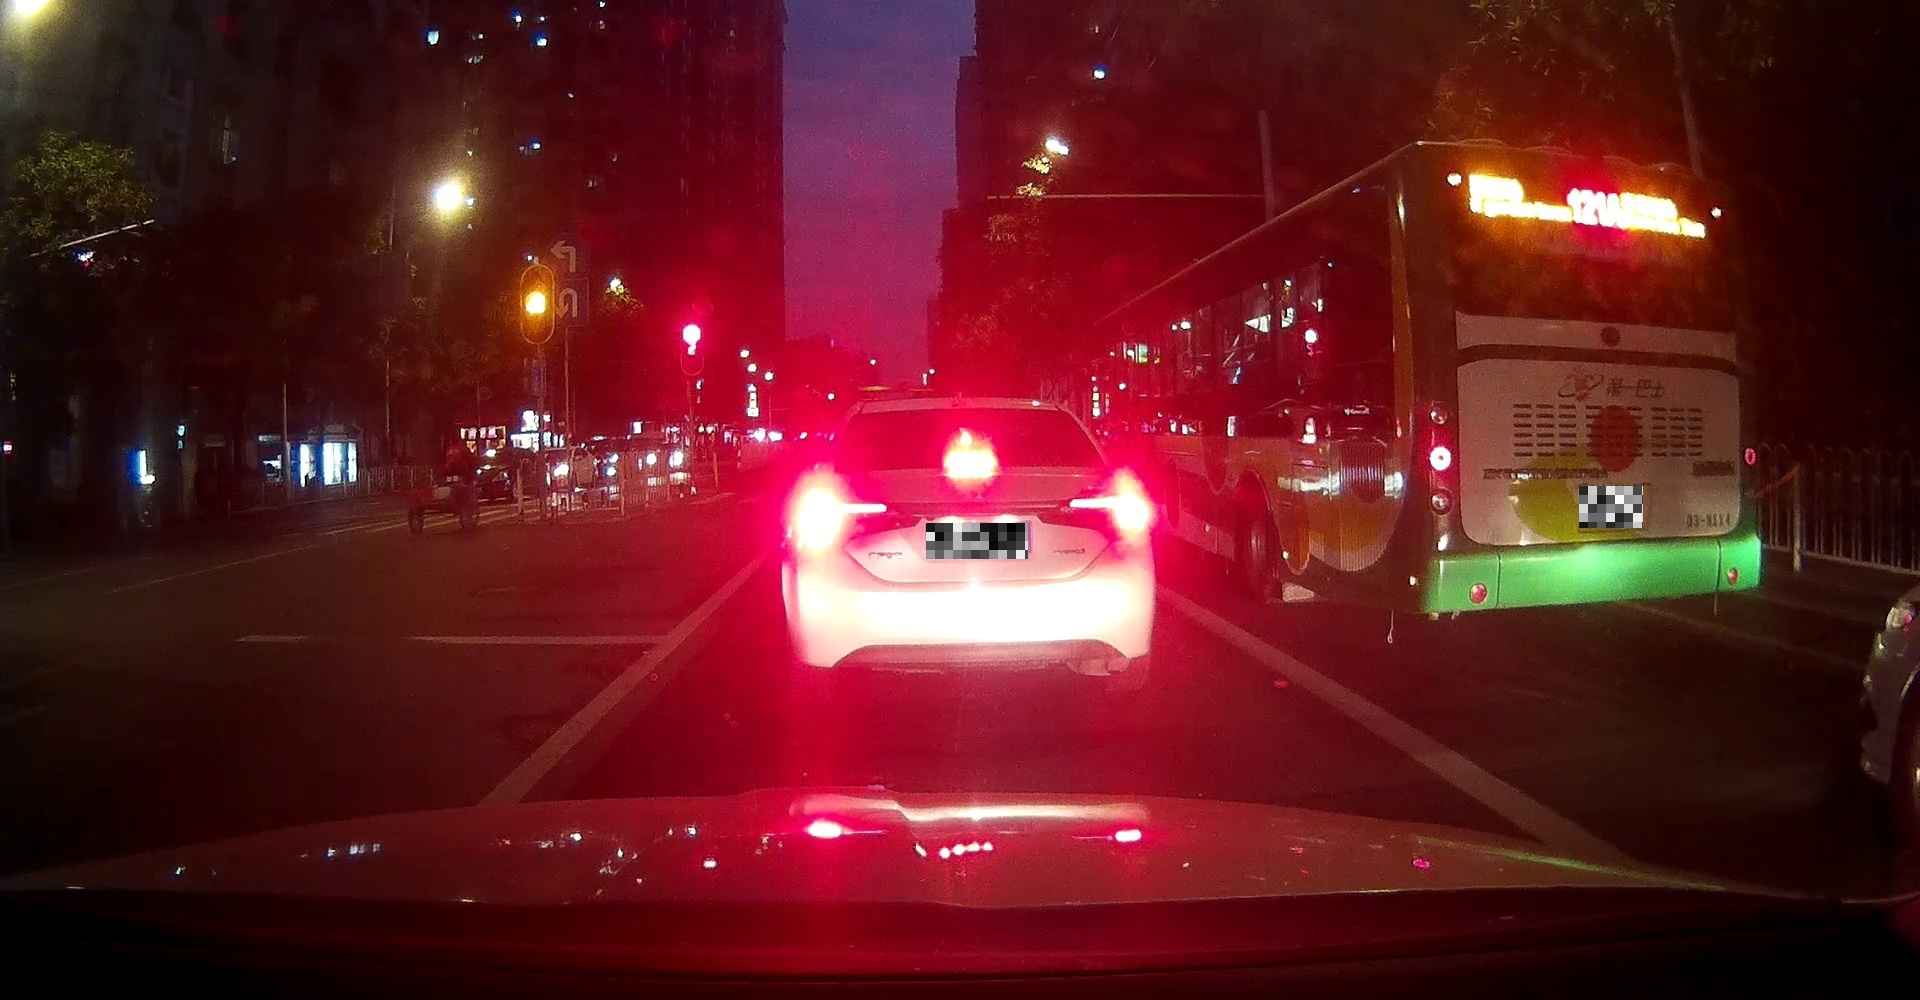L_light: (786, 475, 889, 557), (1417, 395, 1460, 516)
R_light: (1065, 464, 1156, 541), (1738, 423, 1761, 503)
T_light: (1572, 223, 1636, 246), (943, 451, 996, 473)
night-brake: (783, 393, 1154, 693)
night-no: (1417, 141, 1761, 618)
plate_1: (926, 523, 1029, 558)
plate_2: (1578, 486, 1643, 528)
